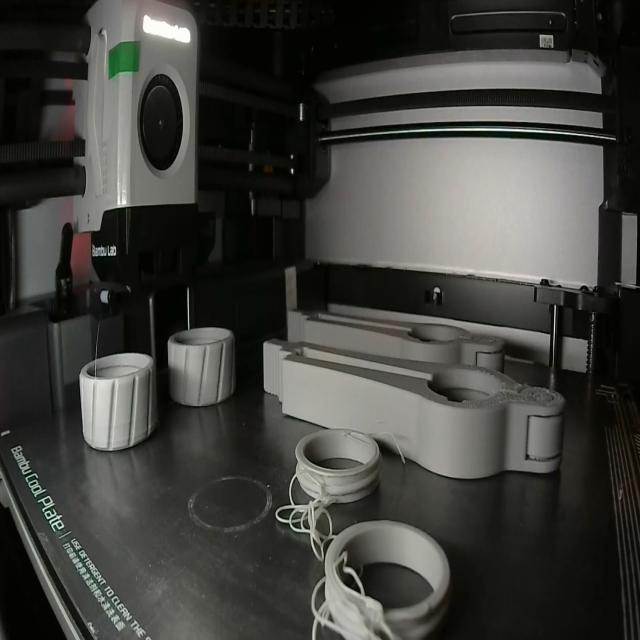spaghetti: (269, 462, 401, 640)
